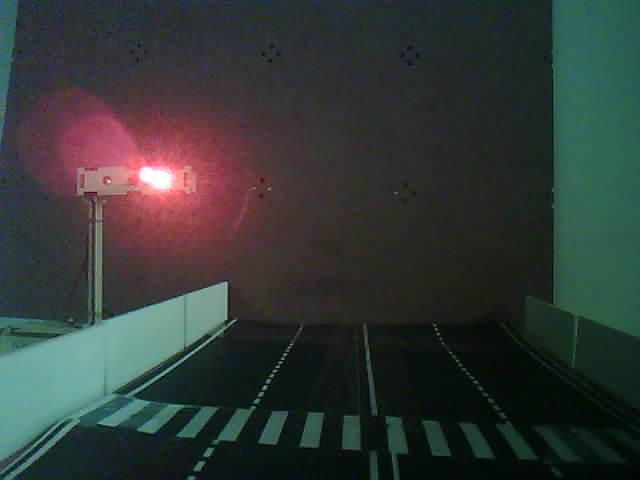crosswalk: (27, 354, 640, 477)
red: (41, 135, 231, 339)
